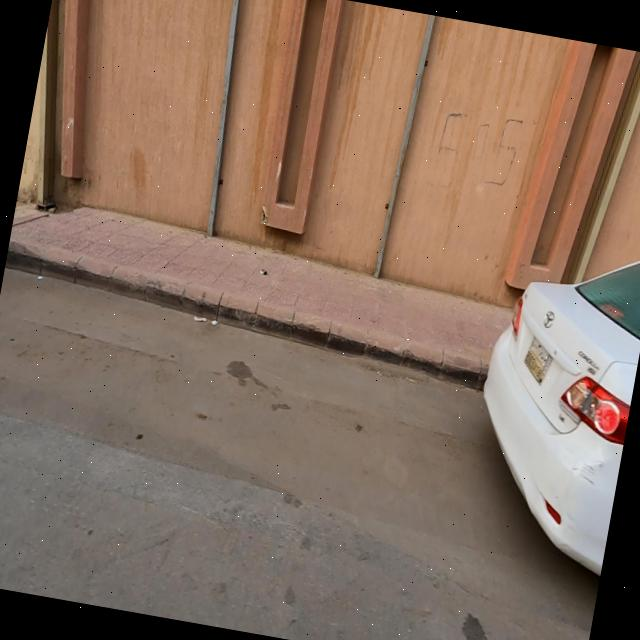Graffiti: (430, 104, 527, 202)
